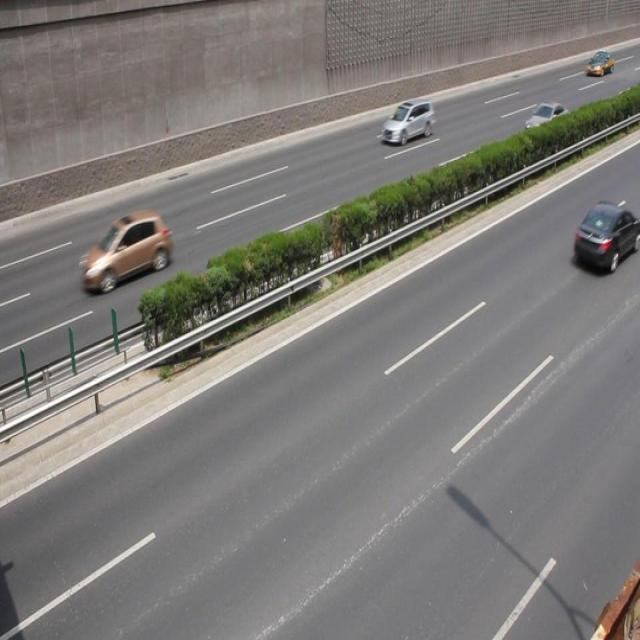car: (79, 209, 169, 292), (572, 199, 640, 273), (380, 100, 433, 146), (522, 98, 568, 144)
